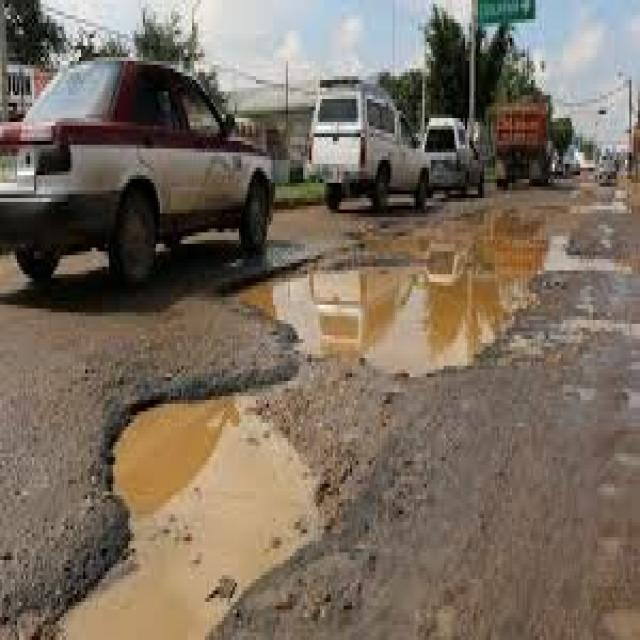Pothole: (15, 346, 397, 640), (207, 198, 640, 373)
